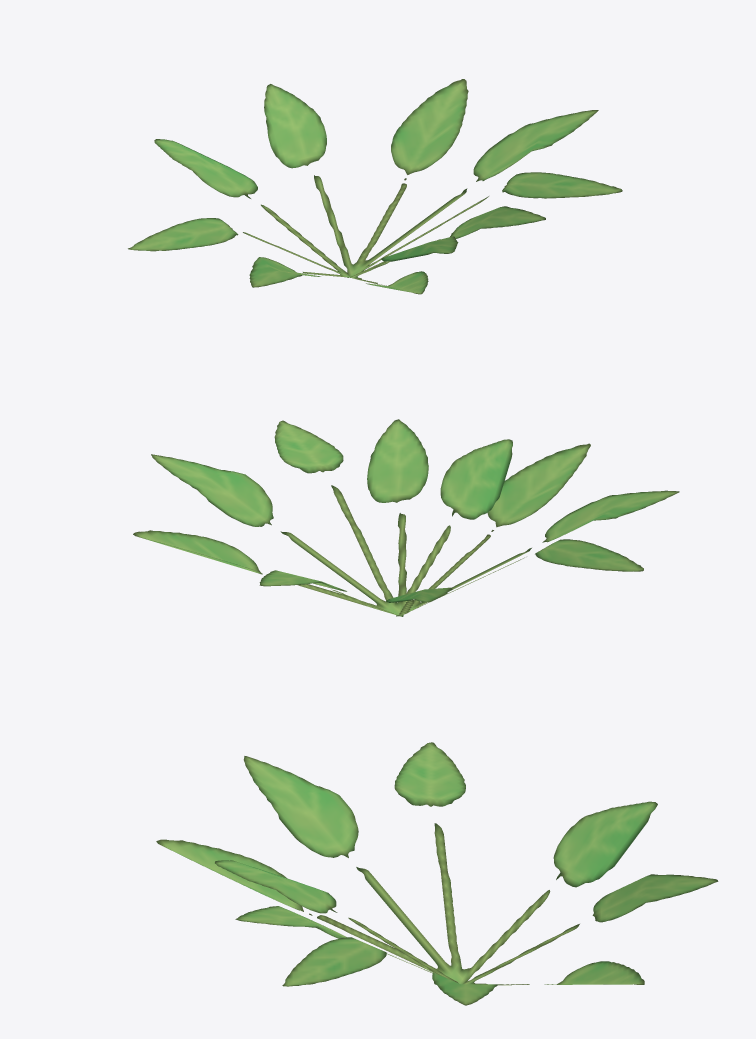
Rendered from LeafSetC_6.fbx.
3 renders of one model, top to bottom at view 1: azimuth 30°, elevation 25°; view 2: azimuth 150°, elevation 25°; view 3: azimuth 270°, elevation 25°, orthographic. The views are drawn at different scales.
Visible parts, largest first — view 1: LeafSetC_6; view 2: LeafSetC_6; view 3: LeafSetC_6.
Boxes of the visible parts, <box> form: LeafSetC_6: <box>128,79,622,294</box>; LeafSetC_6: <box>133,419,679,616</box>; LeafSetC_6: <box>156,742,718,1005</box>.
Size of the model in its own units: 0.6208 by 0.105 by 0.5511.
